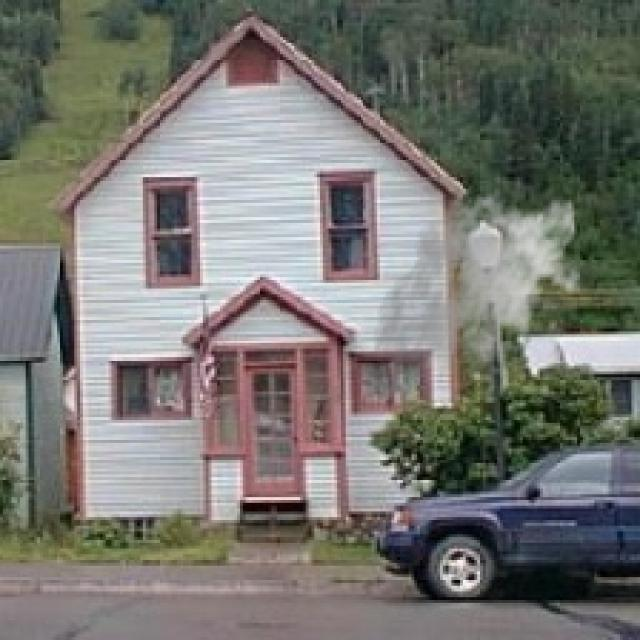Smoke: (371, 186, 583, 397)
